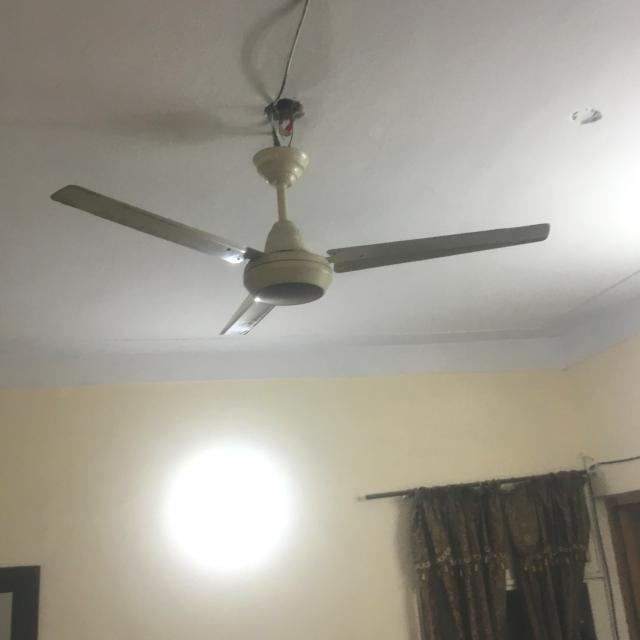off: (44, 178, 551, 343)
